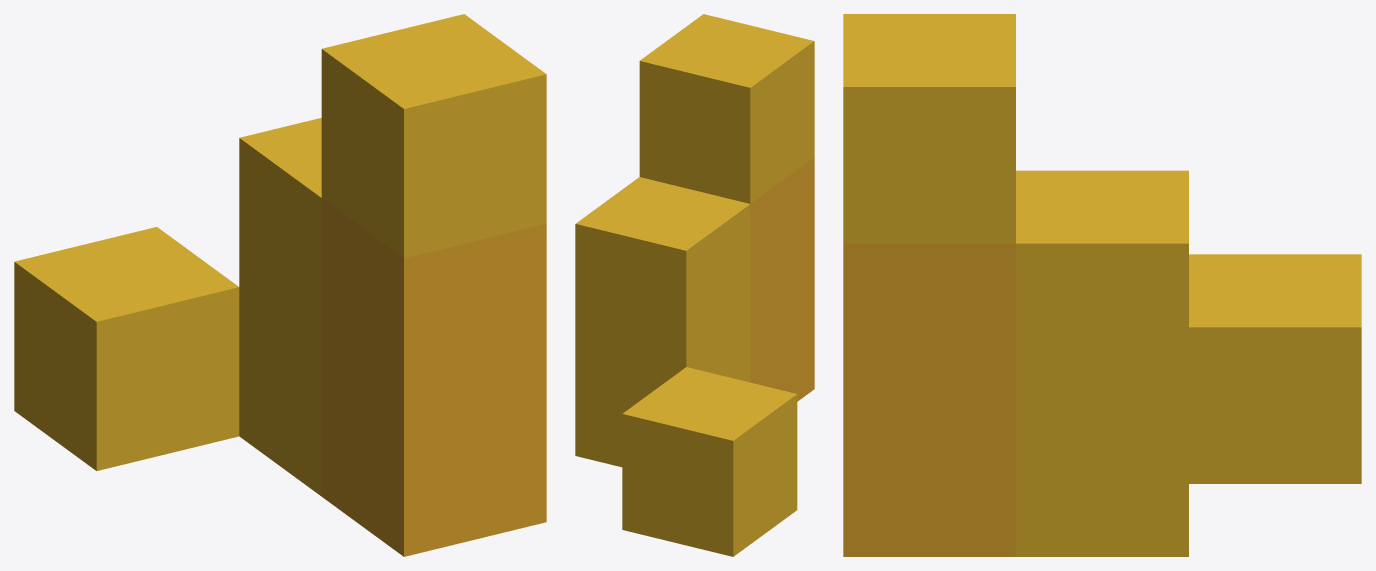
The model's file is tile-35.obj.
3 renders of one model, left to right at view 1: azimuth 30°, elevation 25°; view 2: azimuth 150°, elevation 25°; view 3: azimuth 270°, elevation 25°, orthographic. The views are drawn at different scales.
Bounding box in the file's own units: 0.2 × 0.3 × 0.3.
Materials: 1 (1 with a texture image).
